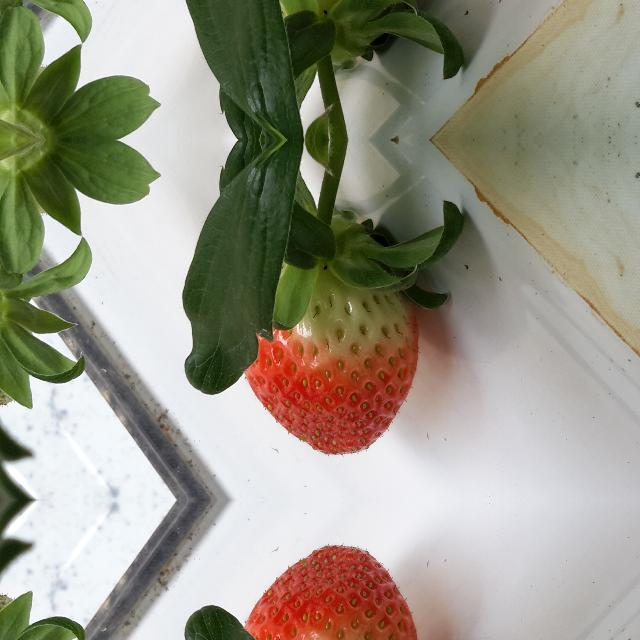Health_100: (242, 260, 418, 454), (242, 546, 418, 640)
